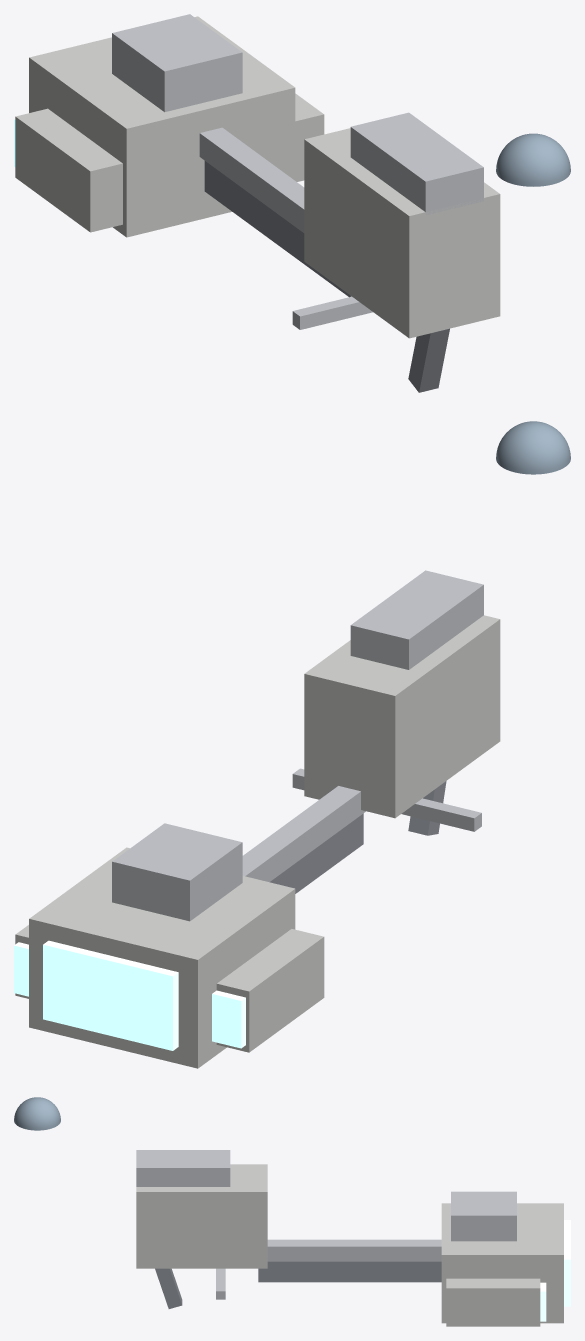
File: frigate.glb
The picture shows the model from 3 angles, top to bottom: view 1: azimuth 30°, elevation 25°; view 2: azimuth 150°, elevation 25°; view 3: azimuth 270°, elevation 25°; orthographic projection. The views are drawn at different scales.
Parts seen in each view (by area): view 1: frigate, dome.011; view 2: frigate, dome.011; view 3: frigate, dome.011.
Boxes of the visible parts, bbox=[...] form: frigate: bbox=[14, 14, 500, 392]; dome.011: bbox=[496, 133, 570, 186]; frigate: bbox=[14, 570, 500, 1068]; dome.011: bbox=[496, 421, 570, 474]; frigate: bbox=[136, 1150, 570, 1326]; dome.011: bbox=[14, 1097, 60, 1130].
Size of the model in its own units: 3.6 by 4.86 by 11.85.
